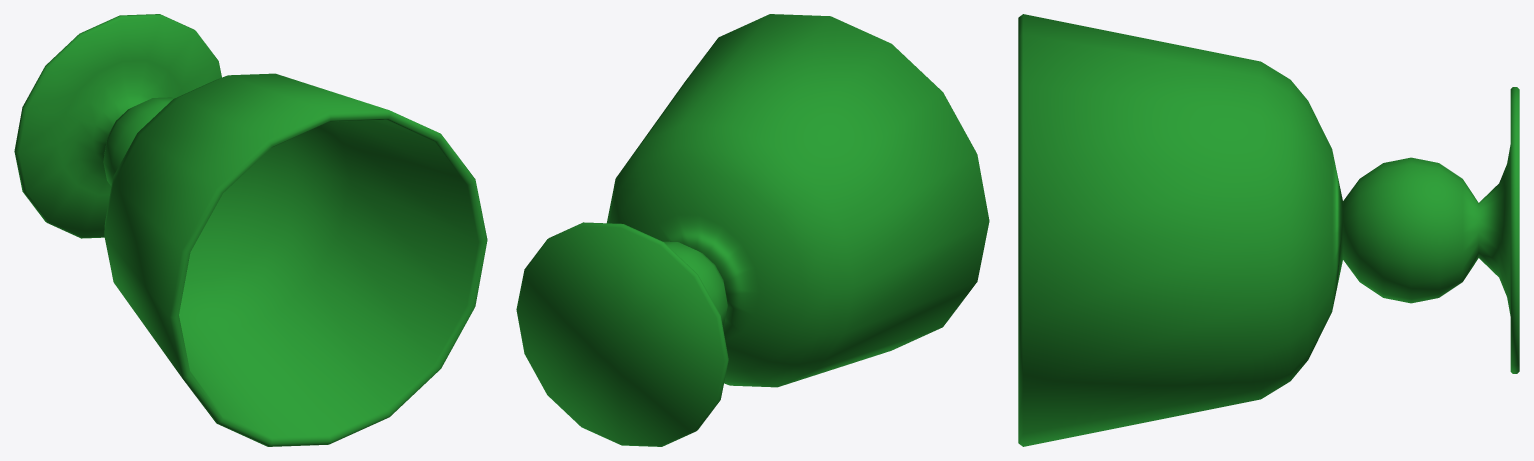
The model's file is MeshCup_25_0_GeomSubset_0.obj.
The picture shows the model from 3 angles, left to right: view 1: azimuth 30°, elevation 25°; view 2: azimuth 150°, elevation 25°; view 3: azimuth 270°, elevation 25°; orthographic projection. The views are drawn at different scales.
Visible parts, largest first — view 1: MeshCup_25_0_GeomSubset_0; view 2: MeshCup_25_0_GeomSubset_0; view 3: MeshCup_25_0_GeomSubset_0.
Part boxes in pixels (<box>): MeshCup_25_0_GeomSubset_0: <box>14,14,487,446</box>; MeshCup_25_0_GeomSubset_0: <box>516,14,989,446</box>; MeshCup_25_0_GeomSubset_0: <box>1018,14,1519,446</box>.
Size of the model in its own units: 0.1367 by 0.1367 by 0.1581.
